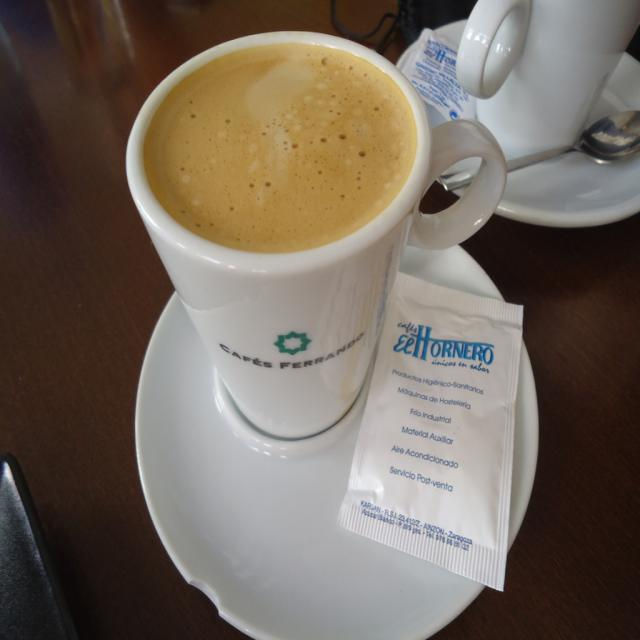Coffee: (115, 15, 464, 436)
Tea: (142, 38, 416, 252)
